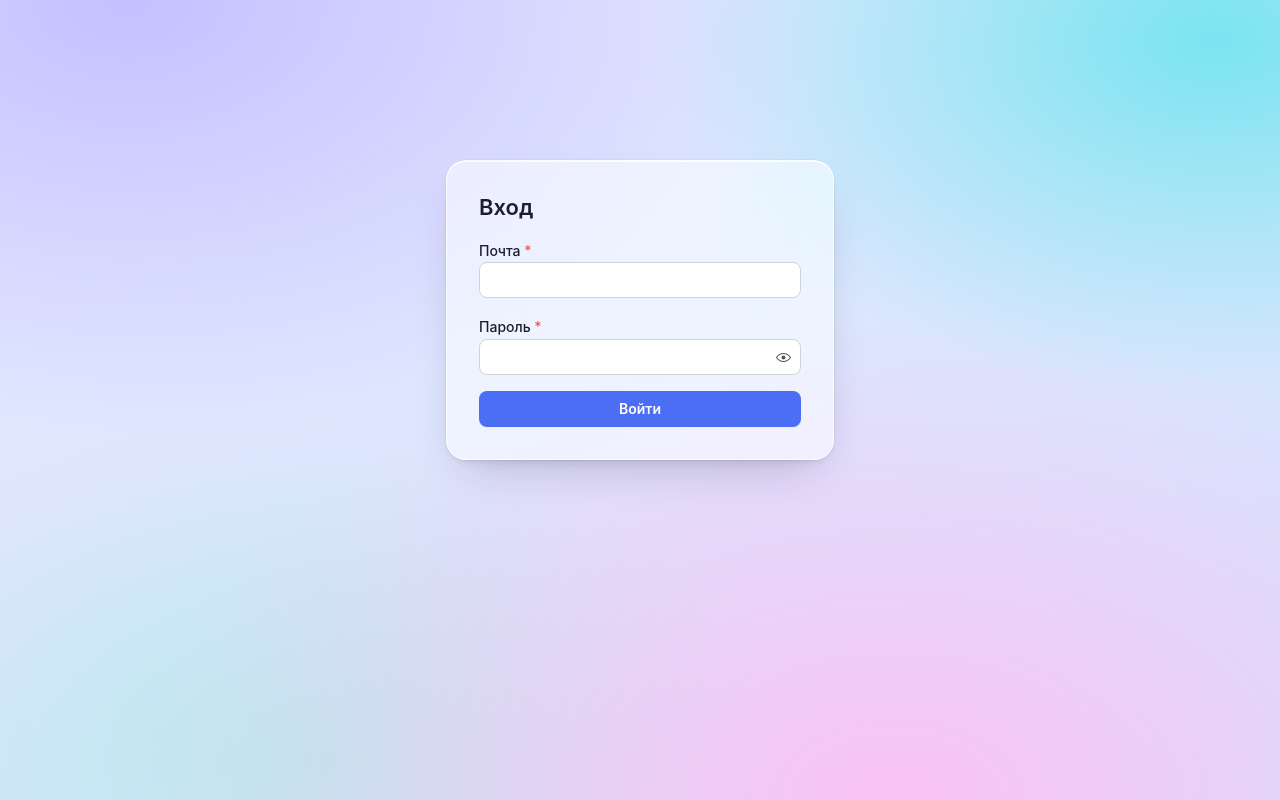
вход › E2: после входа токен сохраняется и человек попадает внутрь
Type "clerk@test.local" into the field labelled "Почта *" at (640, 280), box [479, 262, 801, 298]
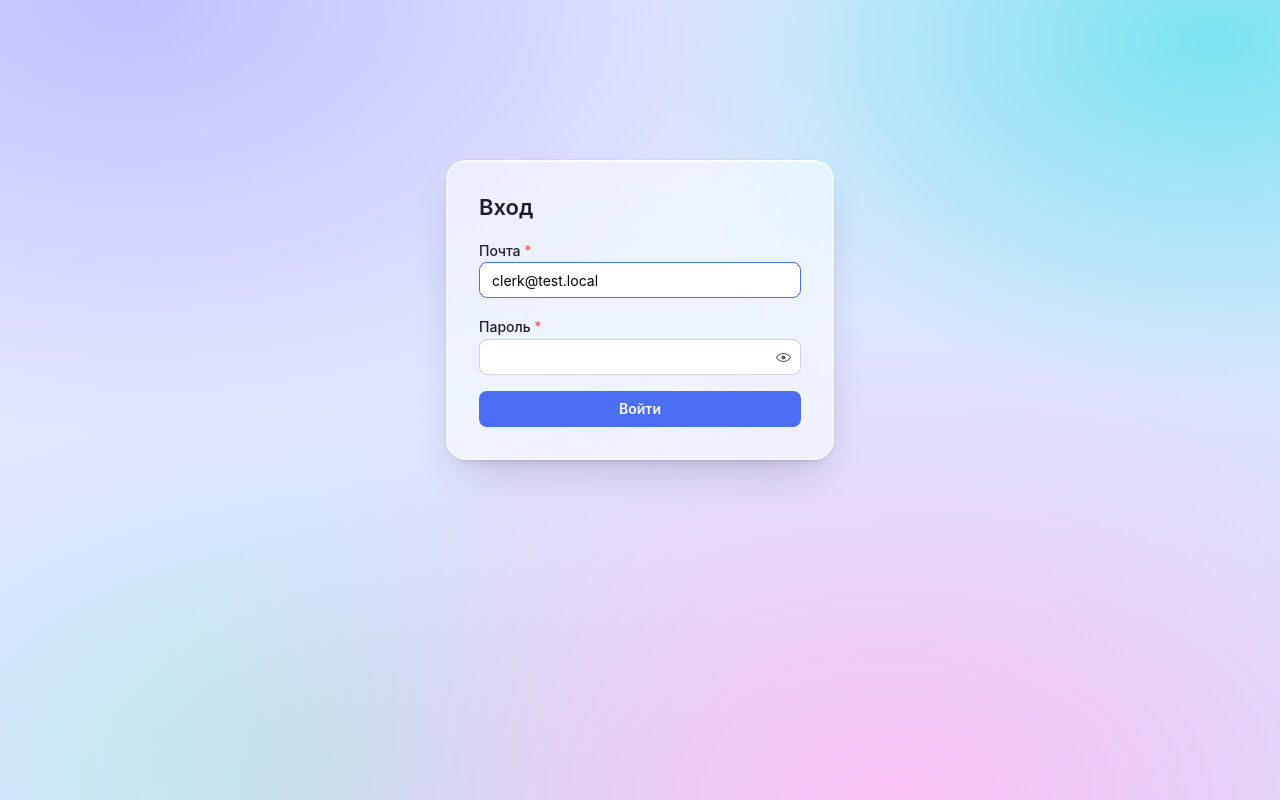
Type "пароль-подлиннее" into the password field labelled "Пароль *" at (640, 357), box [480, 340, 800, 374]
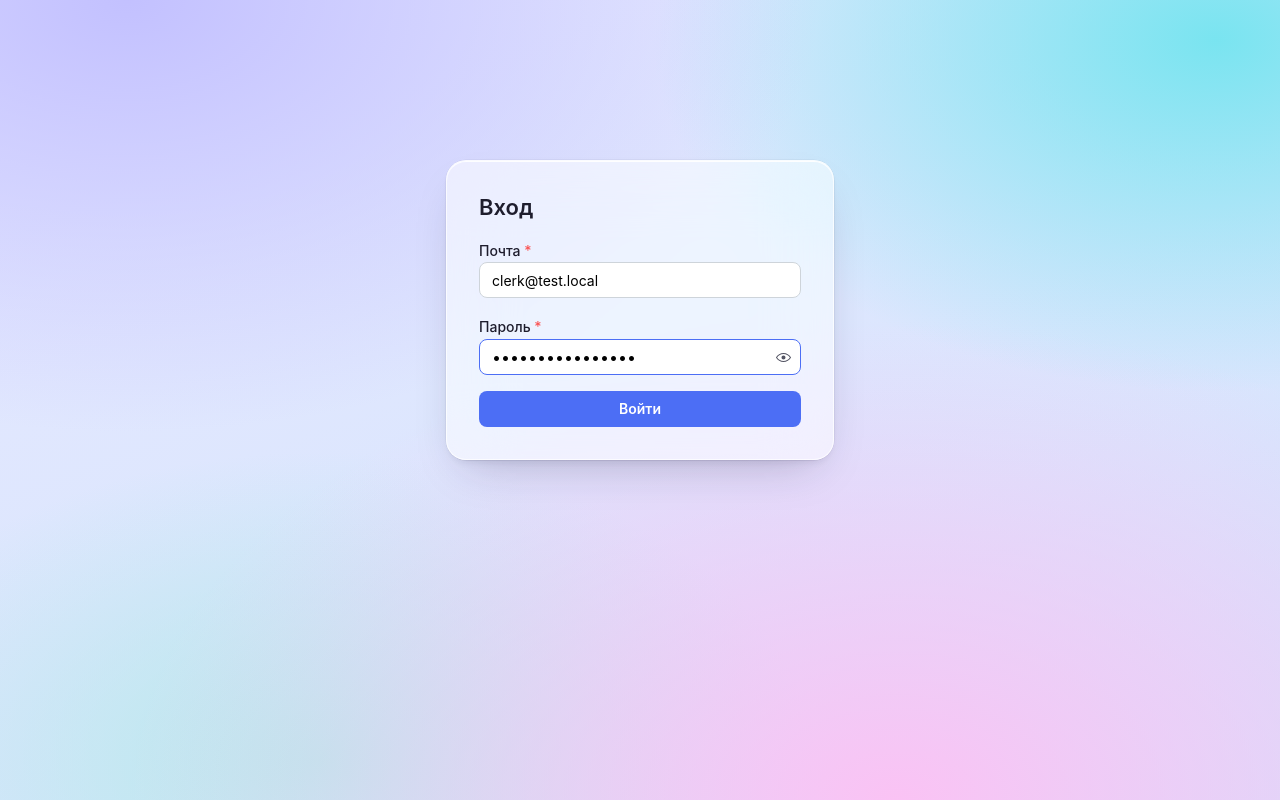
Click the button "Войти" at (640, 409), box [479, 391, 801, 427]
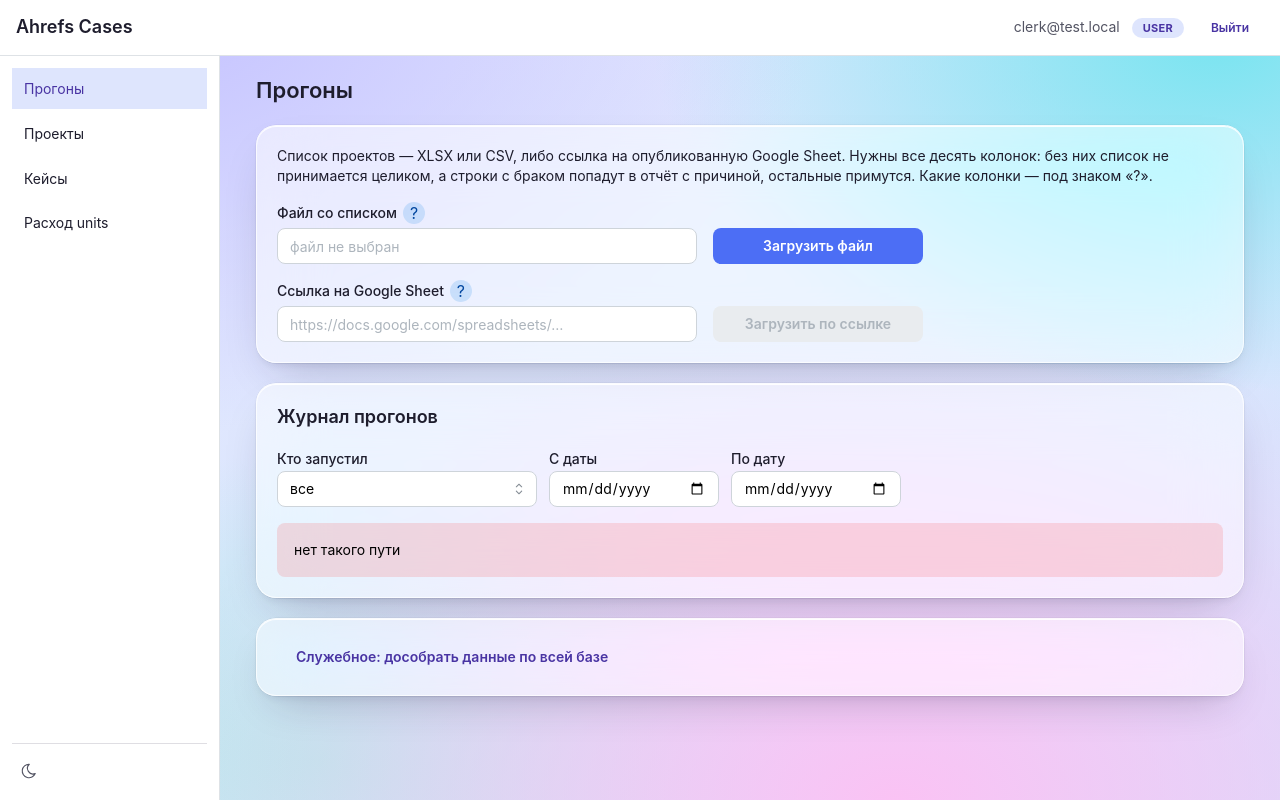
Check: the text "clerk@test.local" is shown, box [1014, 17, 1120, 38]
